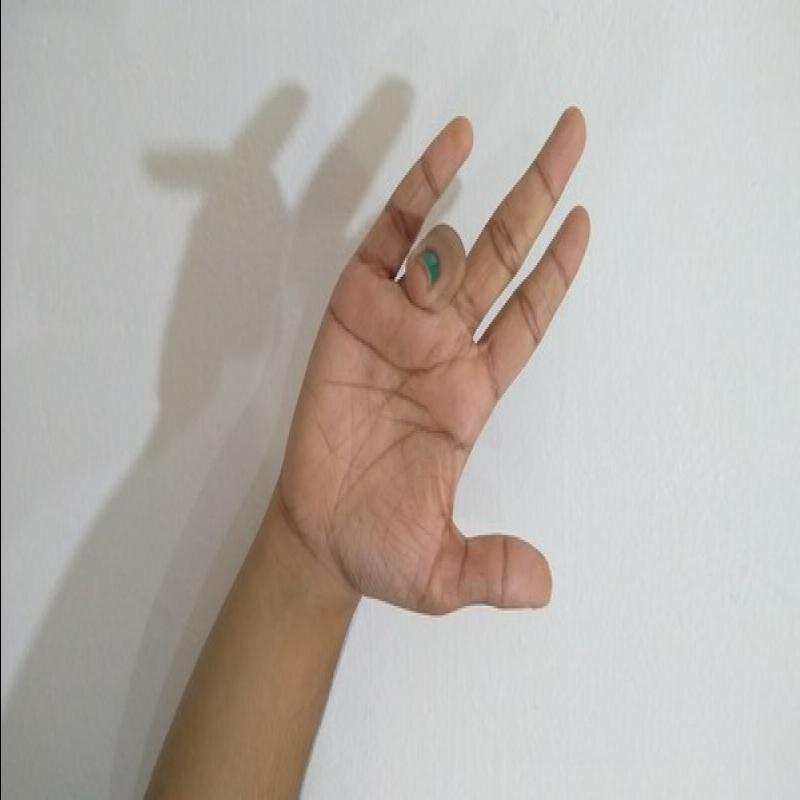Pathaaka: (263, 101, 600, 623)
